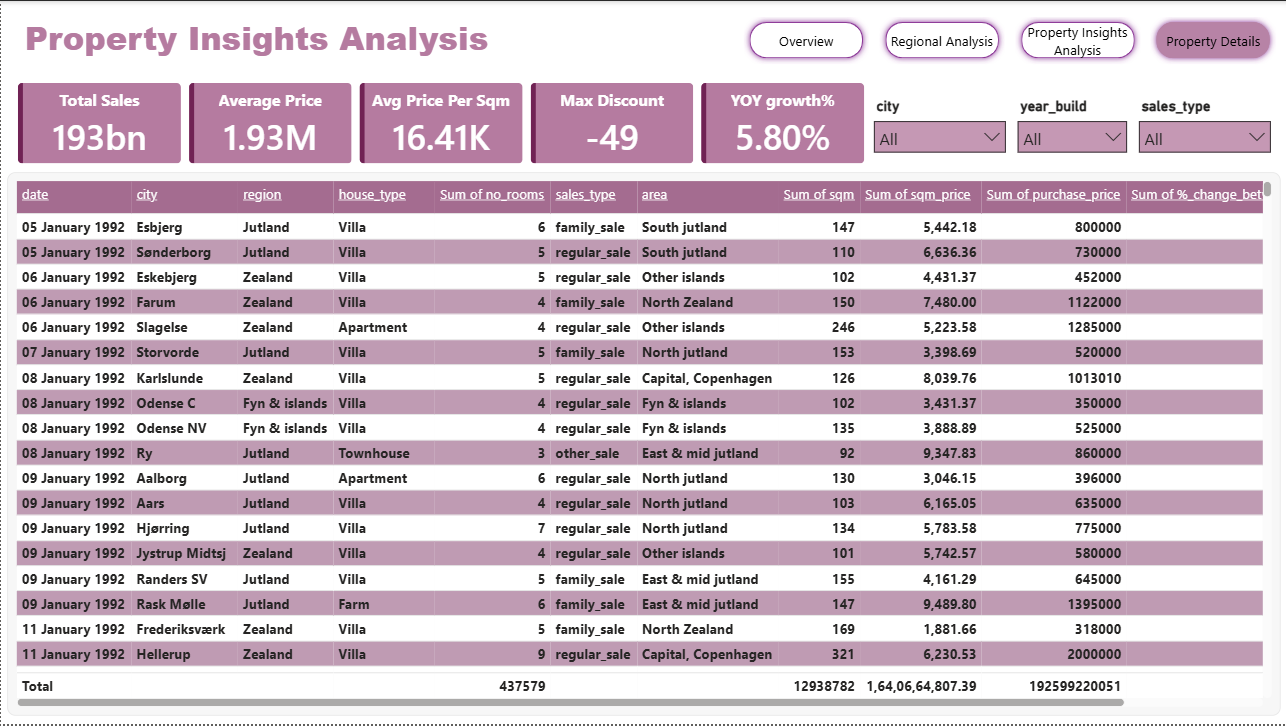

What the dashboard file says about the page in this screenshot:
{"tool":"powerbi","page":{"name":" Property Details","canvas":[1280,720],"ordinal":3},"visuals":[{"type":"cardVisual","fields":{"Data":["Measure Table.Total Sales","Measure Table.Average Price","Measure Table.Avg Price Per Sqm","Measure Table.Max Discount","Measure Table.YOY growth%"]},"box":[0,64.7,878.2,114.4],"z":0},{"type":"slicer","fields":{"Values":["Housing Data.city"]},"box":[858.3,90.8,151.8,65.9],"z":2000},{"type":"slicer","fields":{"Values":["Housing Data.year_build"]},"box":[1001.4,90.8,129.4,67.2],"z":3000},{"type":"textbox","box":[18.7,8.7,566,62.2],"z":5000},{"type":"tableEx","fields":{"Values":["Housing Data.date","Housing Data.city","Housing Data.region","Housing Data.house_type","Sum(Housing Data.no_rooms)","Housing Data.sales_type","Housing Data.area","Sum(Housing Data.sqm)","Sum(Housing Data.sqm_price)","Sum(Housing Data.purchase_price)","Sum(Housing Data.%_change_between_offer_and_purchase)"]},"box":[6.2,170.4,1267.6,541.1],"z":8000},{"type":"slicer","fields":{"Values":["Housing Data.sales_type"]},"box":[1122.1,90.8,151.8,65.9],"z":8001},{"type":"pageNavigator","box":[738.9,14.9,532.4,48.5],"z":8002}]}

Visuals, with their boxes in screenshot pixels (x1, y1, x2, y2), scaled from the page's 1280x720 canvas onto the 1286x726 screenshot:
cardVisual - Measure Table.Total Sales x Measure Table.Average Price: crop(0, 65, 882, 181)
slicer - Housing Data.city: crop(862, 92, 1015, 158)
slicer - Housing Data.year_build: crop(1006, 92, 1136, 159)
textbox: crop(19, 9, 587, 71)
tableEx - Housing Data.date x Housing Data.city: crop(6, 172, 1280, 717)
slicer - Housing Data.sales_type: crop(1127, 92, 1280, 158)
pageNavigator: crop(742, 15, 1277, 64)
